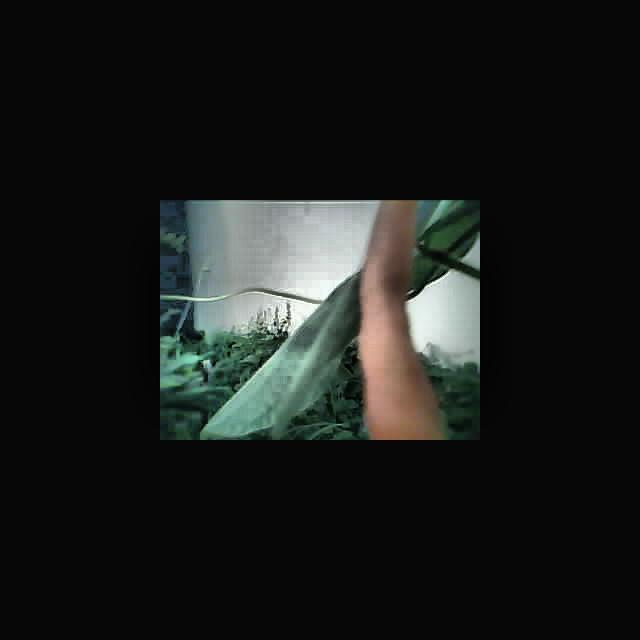Cabai: (365, 200, 430, 439)
